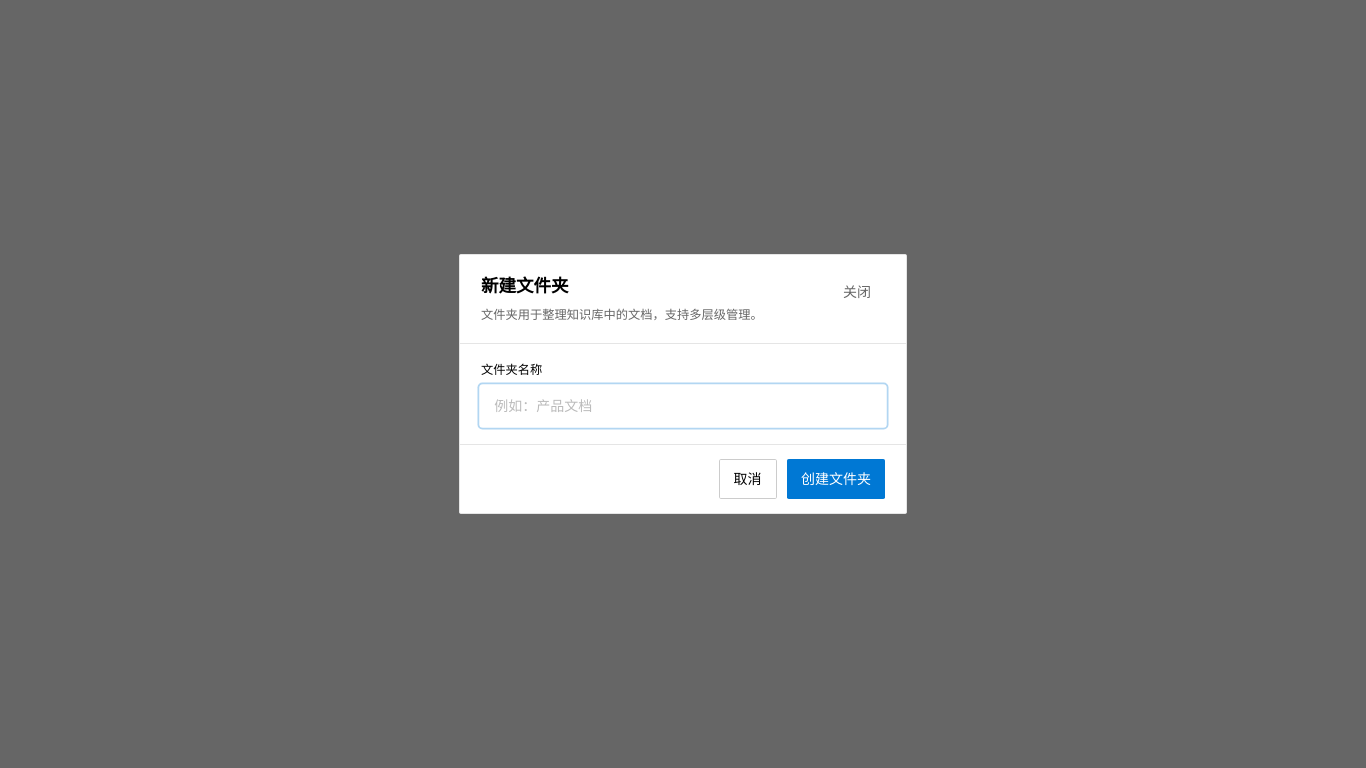
Test: FolderCreateModal › shows an inline error when the folder name is blank
Click the button "创建文件夹". click: (836, 479)
box: [787, 458, 885, 499]
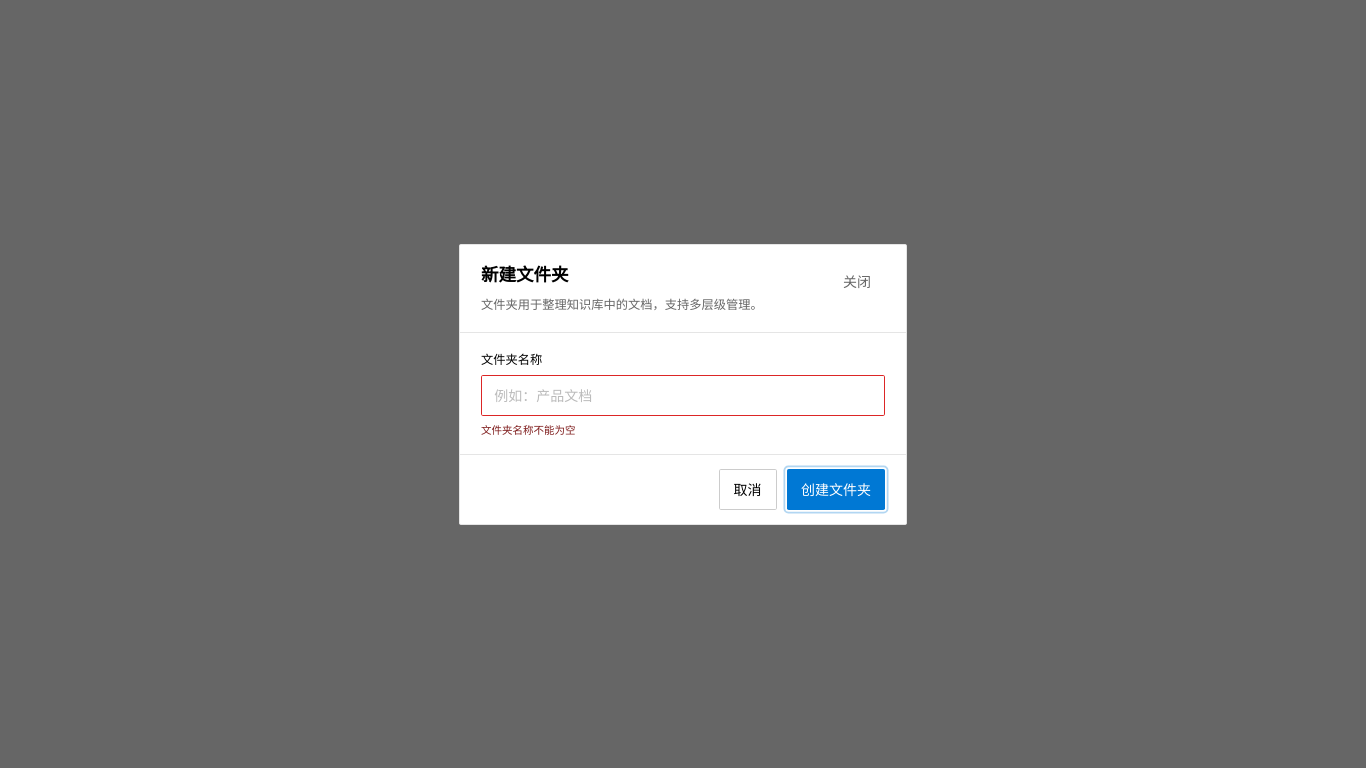
Expected: the text "文件夹名称不能为空" is shown, [481, 422, 576, 436]
